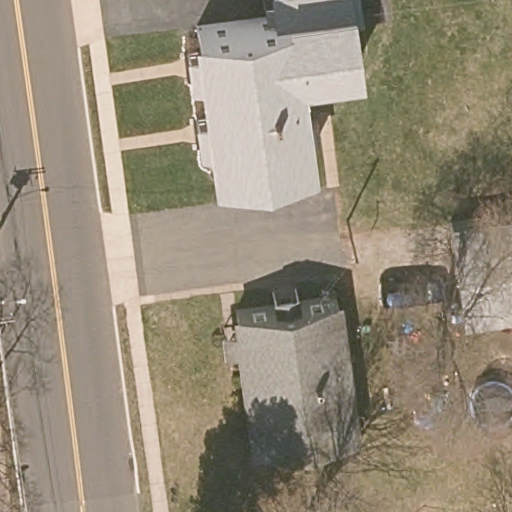DT: (346, 220, 361, 266)
